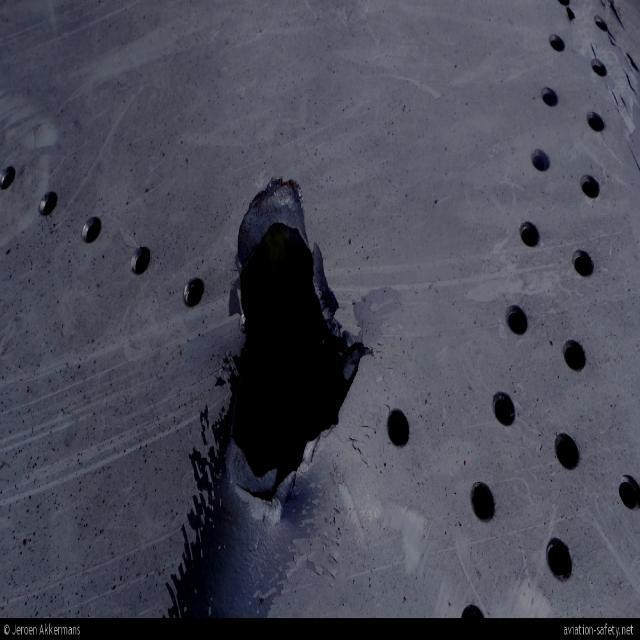crack: (220, 179, 377, 526), (558, 2, 640, 172)
